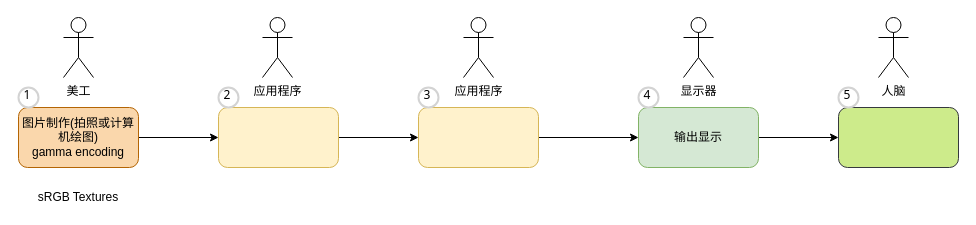
This 976x225 diagram has some shape labels left out. Here are the shapes that lost their labels. From the top down, the box of each, then its label:
(218, 106, 338, 168): 图片加载 gamma decoding
(418, 106, 538, 168): 光照计算 gamma correction
(838, 106, 958, 168): 视觉
